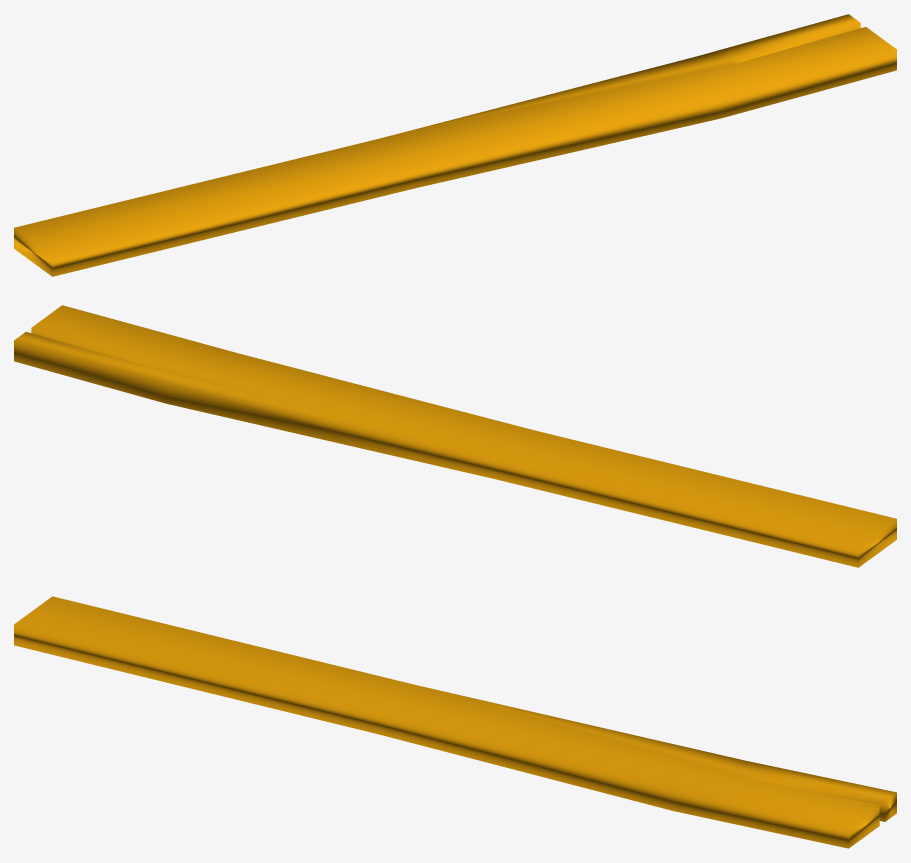
File: Board_02.fbx
3 views of the same model, one above another, from view 1: azimuth 30°, elevation 25°; view 2: azimuth 150°, elevation 25°; view 3: azimuth 330°, elevation 25° (orthographic).
Visible parts, largest first — view 1: Board_02; view 2: Board_02; view 3: Board_02.
Part boxes in pixels (x1,y1,x2,y2): Board_02: (14,14,896,276); Board_02: (14,305,896,567); Board_02: (14,596,896,848).
Bounding box in the file's own units: 146 × 4.34 × 14.54.
